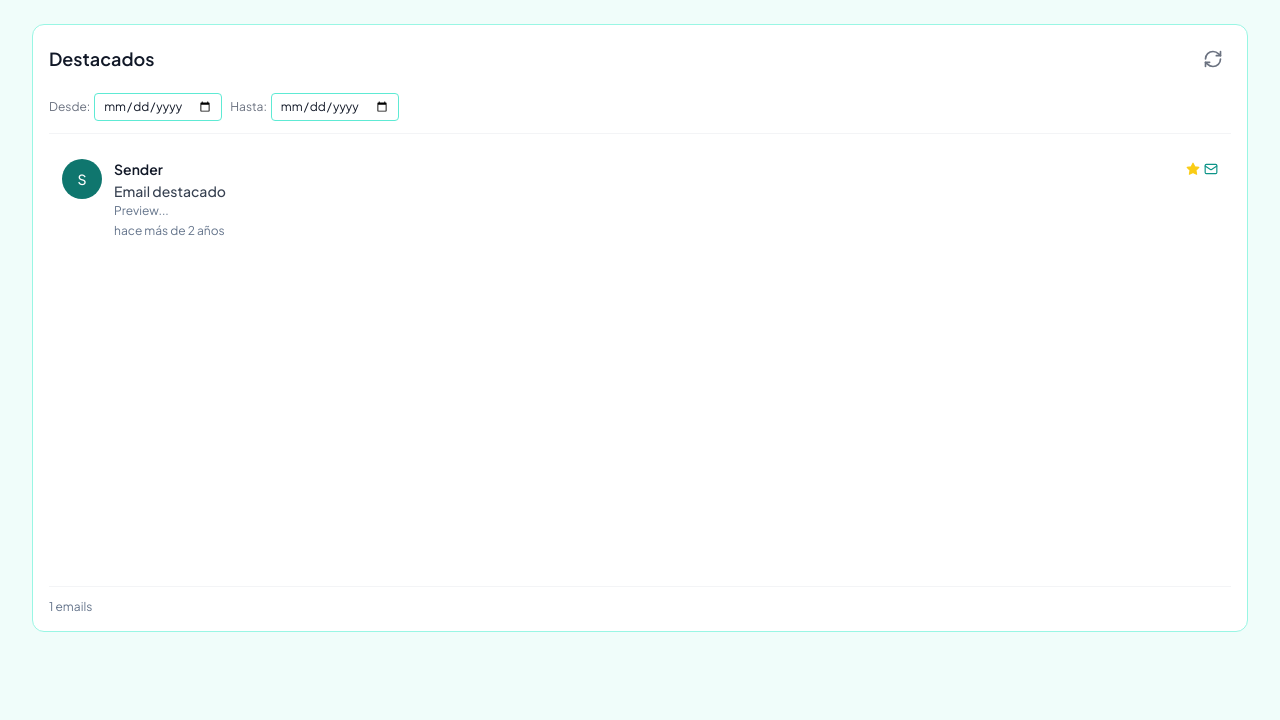
Test: EmailListView › removes the email from the list when deleted from the detail
Click the text "Email destacado". click: [170, 191]
box: left=114, top=182, right=226, bottom=200
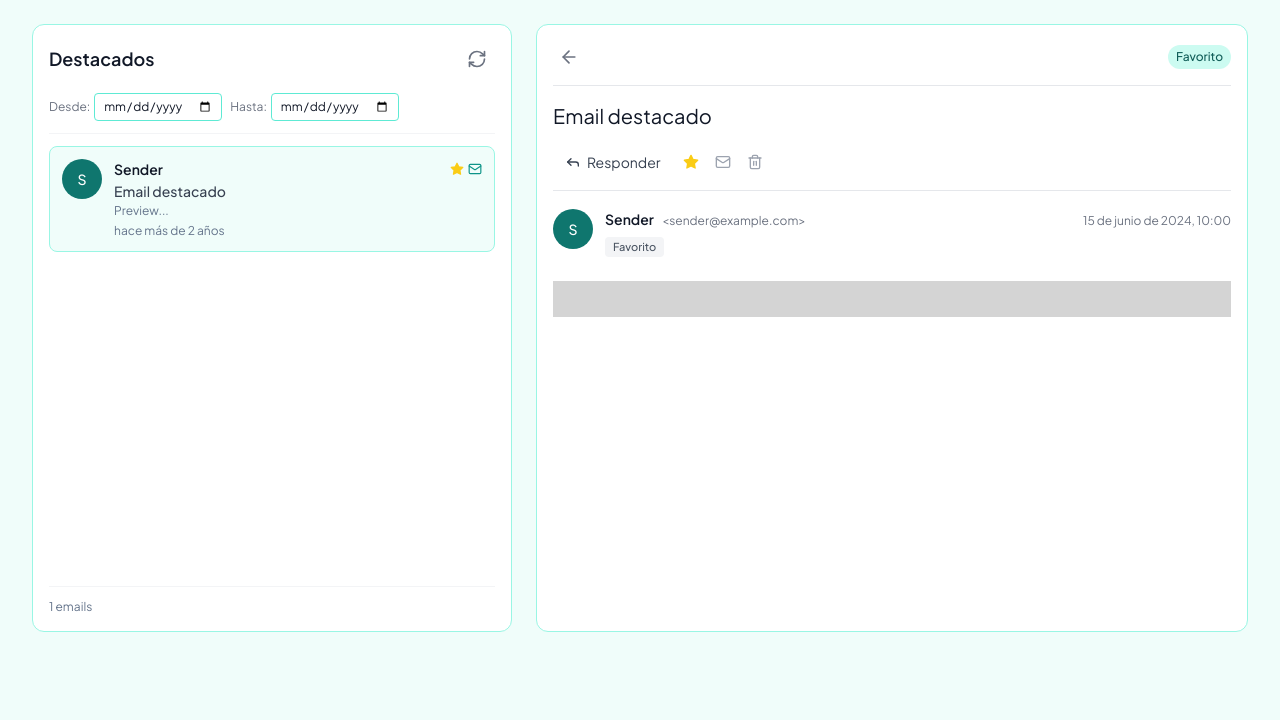
Click the button titled "Eliminar". click: [754, 162]
box: left=740, top=148, right=768, bottom=176
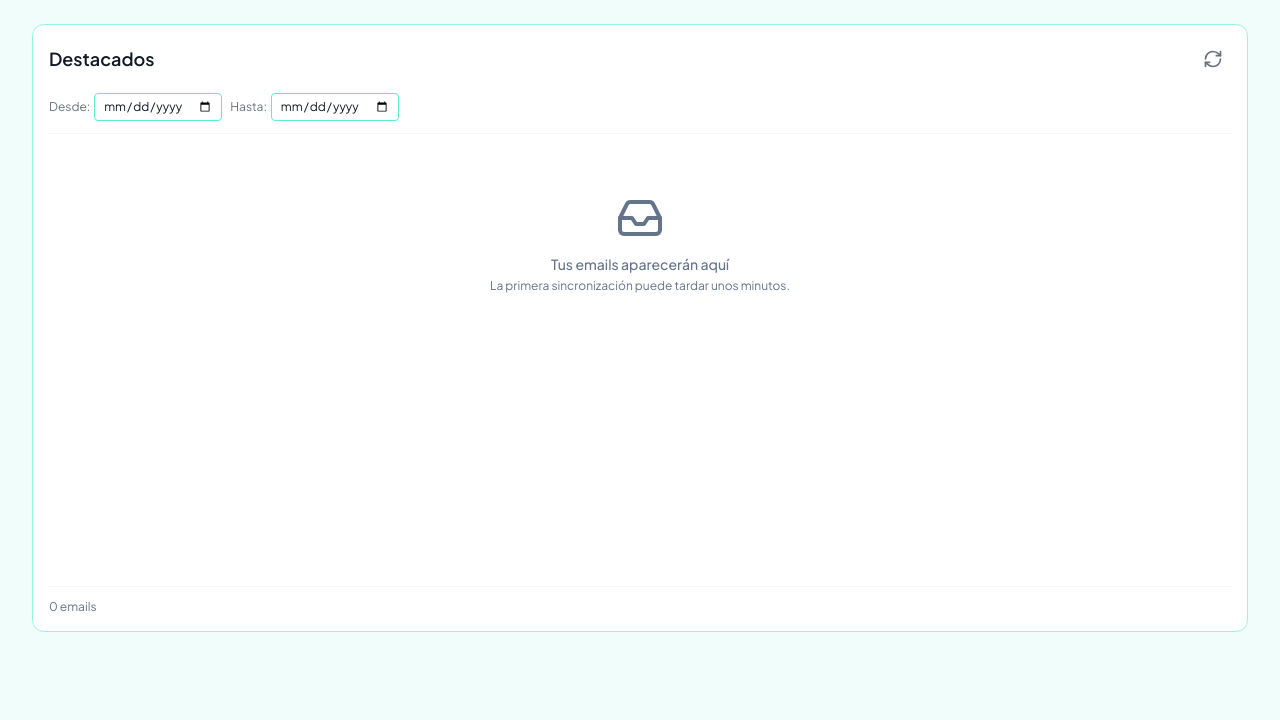
Result: the button "Email destacado" is gone
